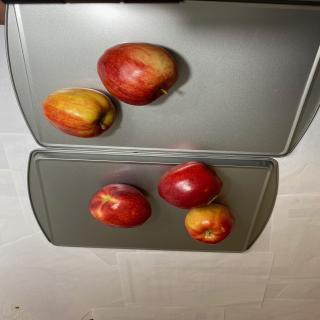Apple: (96, 41, 178, 106), (42, 88, 115, 138), (157, 160, 223, 210), (88, 183, 152, 228), (184, 203, 235, 244)
